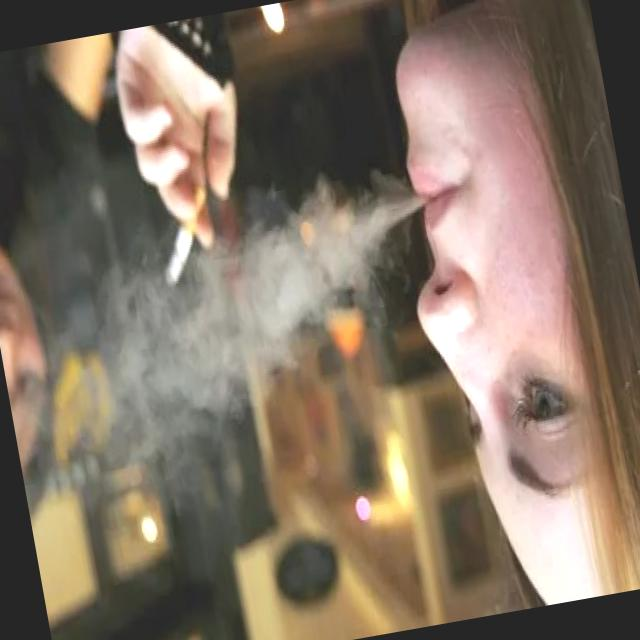cigarette: (148, 176, 226, 299)
